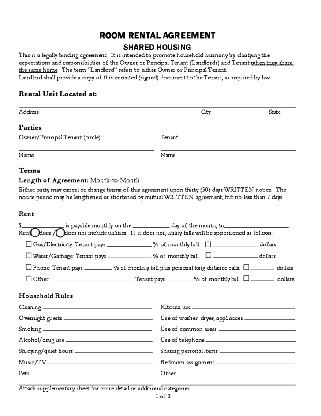checkbox: (53, 227, 67, 239), (28, 227, 41, 238), (242, 273, 251, 283), (24, 240, 34, 248), (25, 251, 33, 259), (25, 274, 33, 282), (206, 251, 212, 261), (25, 263, 32, 271), (242, 263, 249, 271), (205, 241, 211, 248)
textline: (17, 95, 299, 112), (160, 139, 298, 154), (176, 365, 299, 380), (19, 142, 155, 154), (191, 300, 299, 313), (41, 300, 155, 312), (29, 367, 154, 377), (205, 334, 306, 346), (217, 321, 302, 335), (223, 216, 291, 232), (47, 325, 155, 335), (47, 356, 155, 366), (51, 272, 135, 284), (66, 335, 158, 345), (64, 313, 152, 323), (217, 356, 297, 367), (220, 345, 299, 356), (244, 311, 300, 326), (75, 347, 155, 356), (105, 248, 154, 262), (212, 238, 262, 251), (107, 238, 154, 250), (23, 218, 64, 231), (212, 251, 259, 262), (131, 219, 170, 229), (166, 273, 194, 285), (251, 274, 275, 284), (84, 263, 113, 271), (251, 264, 276, 271)
